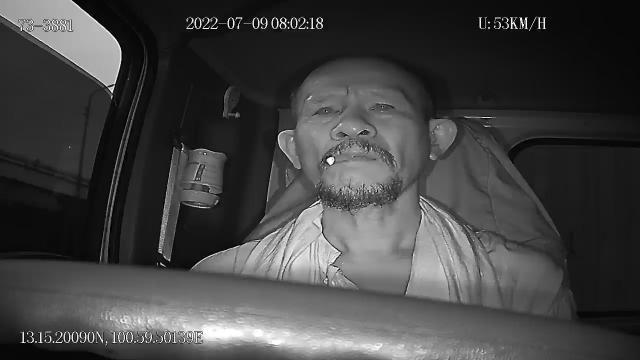SafeDriving: (305, 97, 345, 124), (364, 93, 404, 119)
Smoking: (324, 154, 352, 166)
